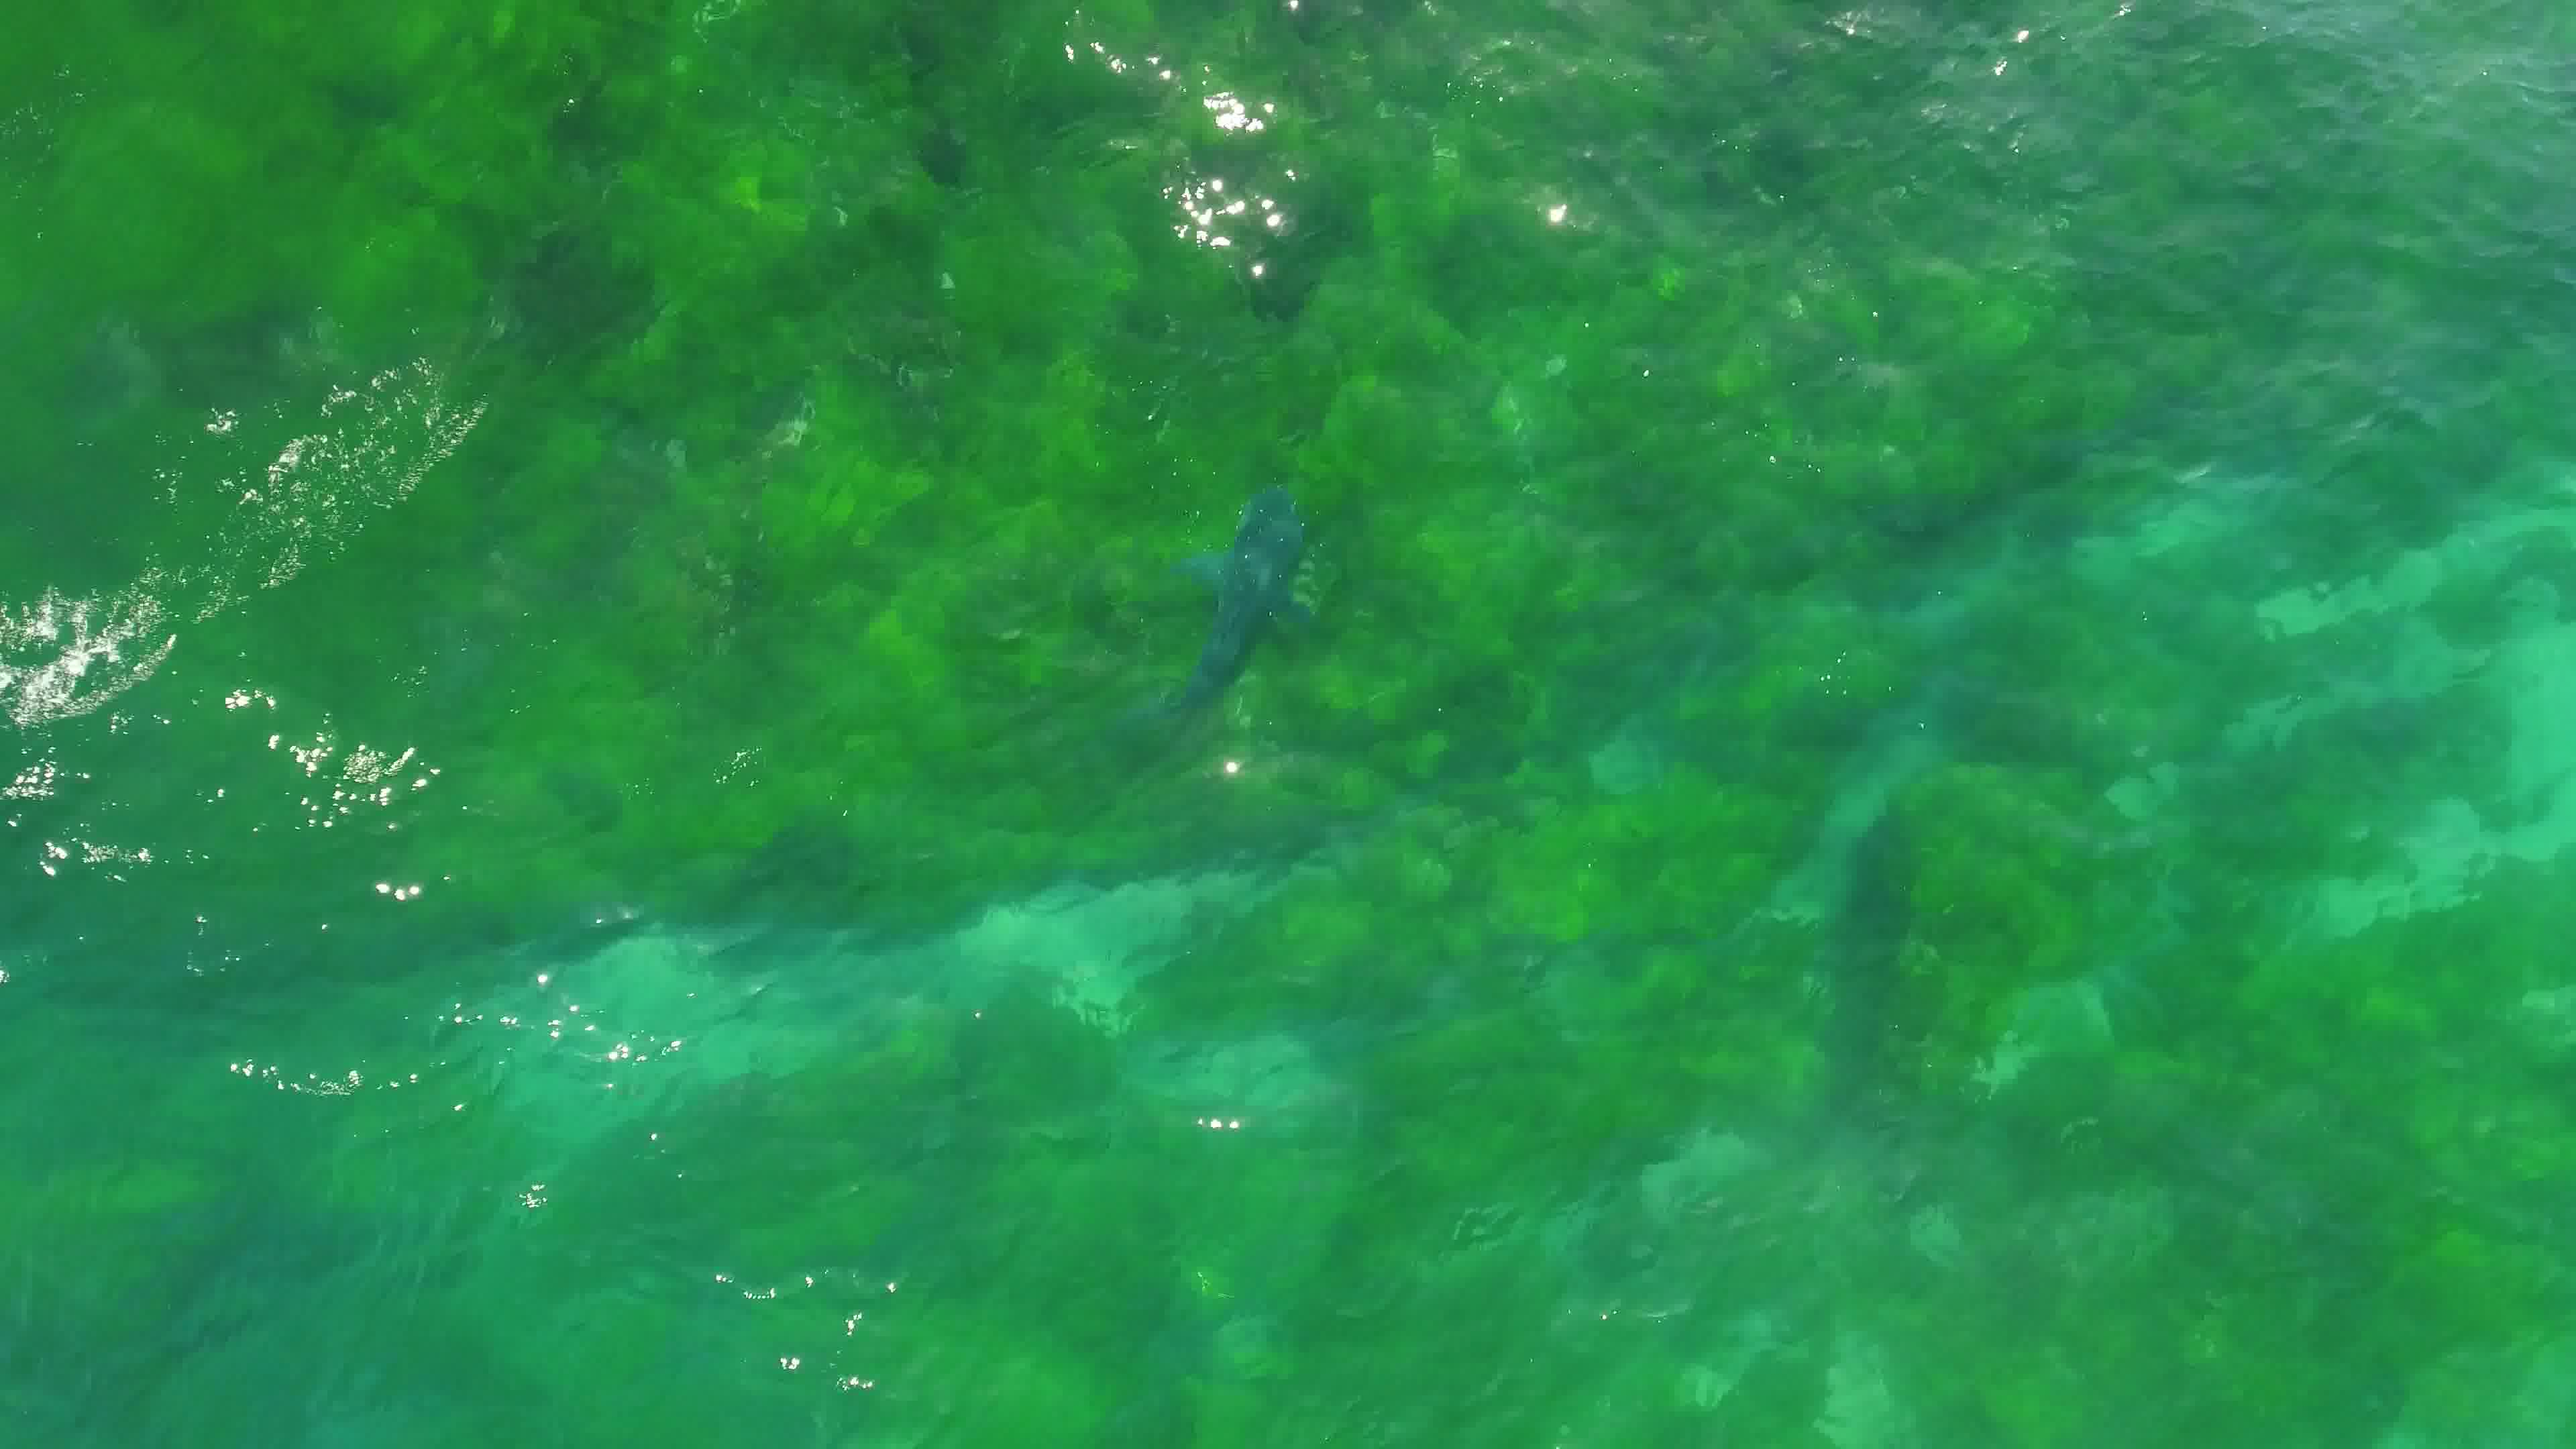shark: (1164, 481, 1327, 738)
